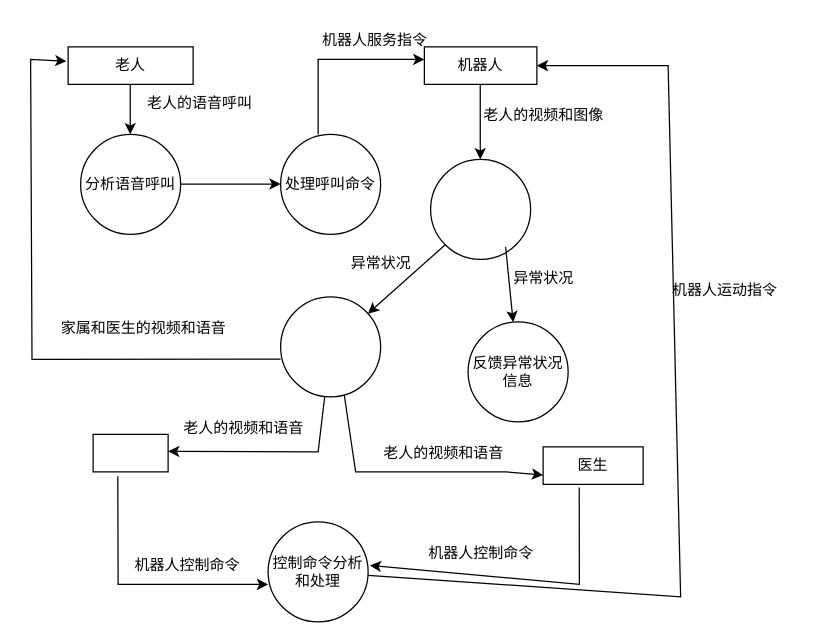
Some shapes in this 815 by 644 pixel diagram are drawn without their labels. Here are the shapes that lost their labels. From the top down, the box of each, then its label:
(429, 158, 531, 259): 分析老人的视频和图像
(279, 296, 381, 397): 建立视频通信连接
(92, 433, 168, 472): 家属
